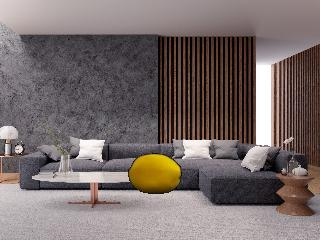lemon: (130, 154, 182, 193)
